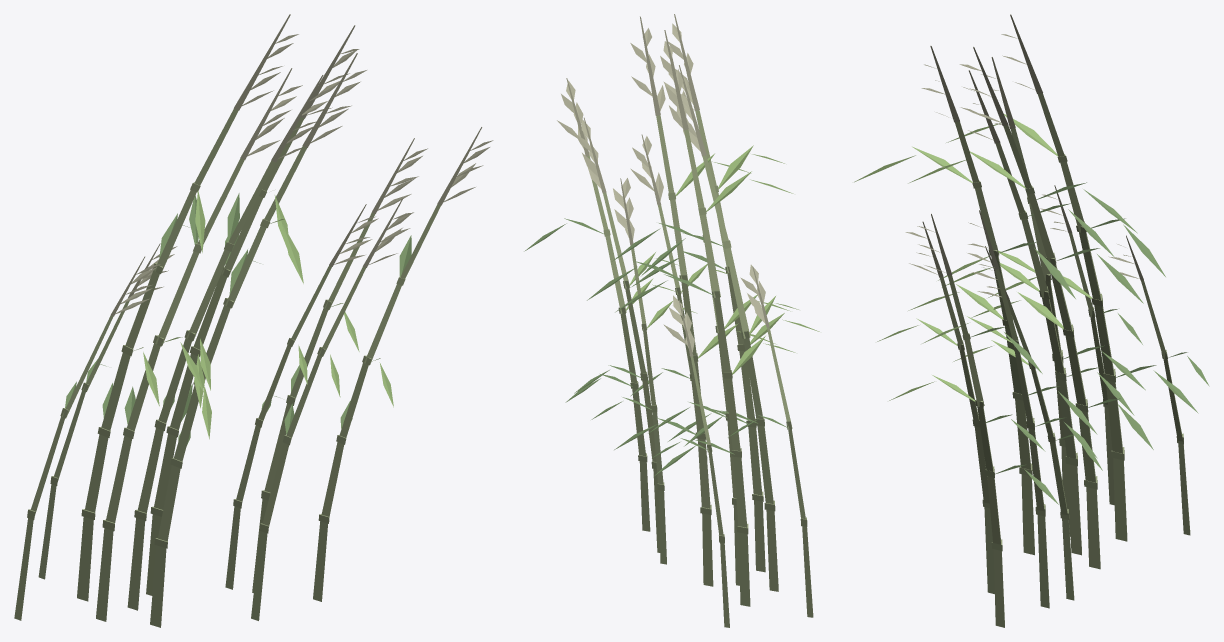
File: shui.luweidang@fruiting__bloom.glb
The picture shows the model from 3 angles, left to right: view 1: azimuth 30°, elevation 25°; view 2: azimuth 150°, elevation 25°; view 3: azimuth 270°, elevation 25°; orthographic projection. The views are drawn at different scales.
Visible parts, largest first — view 1: shui.luweidang@fruiting__bloom; view 2: shui.luweidang@fruiting__bloom; view 3: shui.luweidang@fruiting__bloom.
Boxes of the visible parts, x1,y1,x2,y2 form: shui.luweidang@fruiting__bloom: [14, 14, 493, 627]; shui.luweidang@fruiting__bloom: [524, 14, 819, 627]; shui.luweidang@fruiting__bloom: [854, 14, 1209, 627].
Bounding box in the file's own units: 3 × 4.39 × 2.38.
